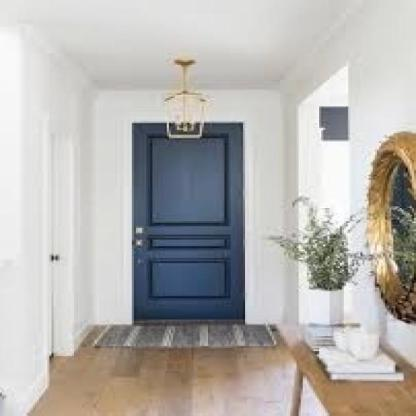Carpet: (83, 321, 280, 348)
Wooden floor: (29, 348, 328, 416)
